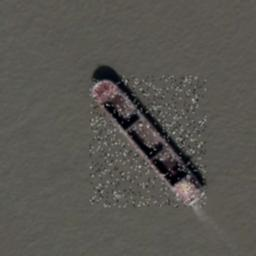boat: (90, 76, 206, 207)
